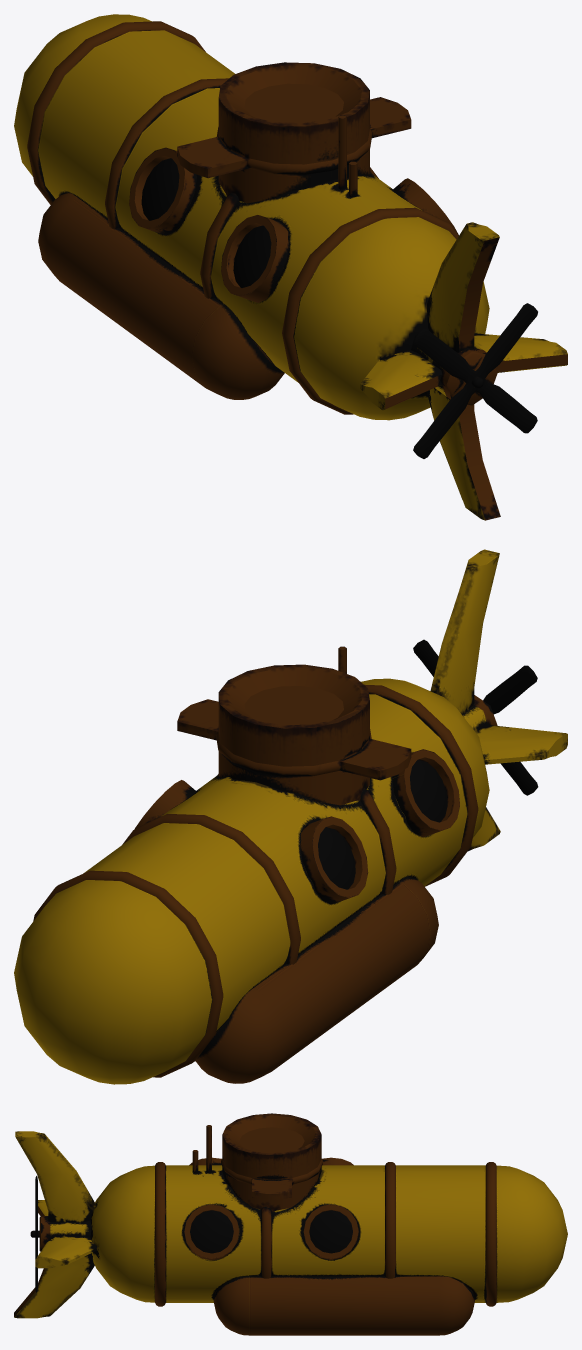
File: submarine.glb
3 views of the same model, one above another, from view 1: azimuth 30°, elevation 25°; view 2: azimuth 150°, elevation 25°; view 3: azimuth 270°, elevation 25° (orthographic). The views are drawn at different scales.
Parts seen in each view (by area): view 1: Submarine_LP; view 2: Submarine_LP; view 3: Submarine_LP.
Boxes of the visible parts, x1,y1,x2,y2 form: Submarine_LP: [14, 14, 567, 520]; Submarine_LP: [14, 549, 567, 1084]; Submarine_LP: [14, 1113, 567, 1335].
Bounding box in the file's own units: 260 × 304 × 805.
Materials: 1 (1 with a texture image).
